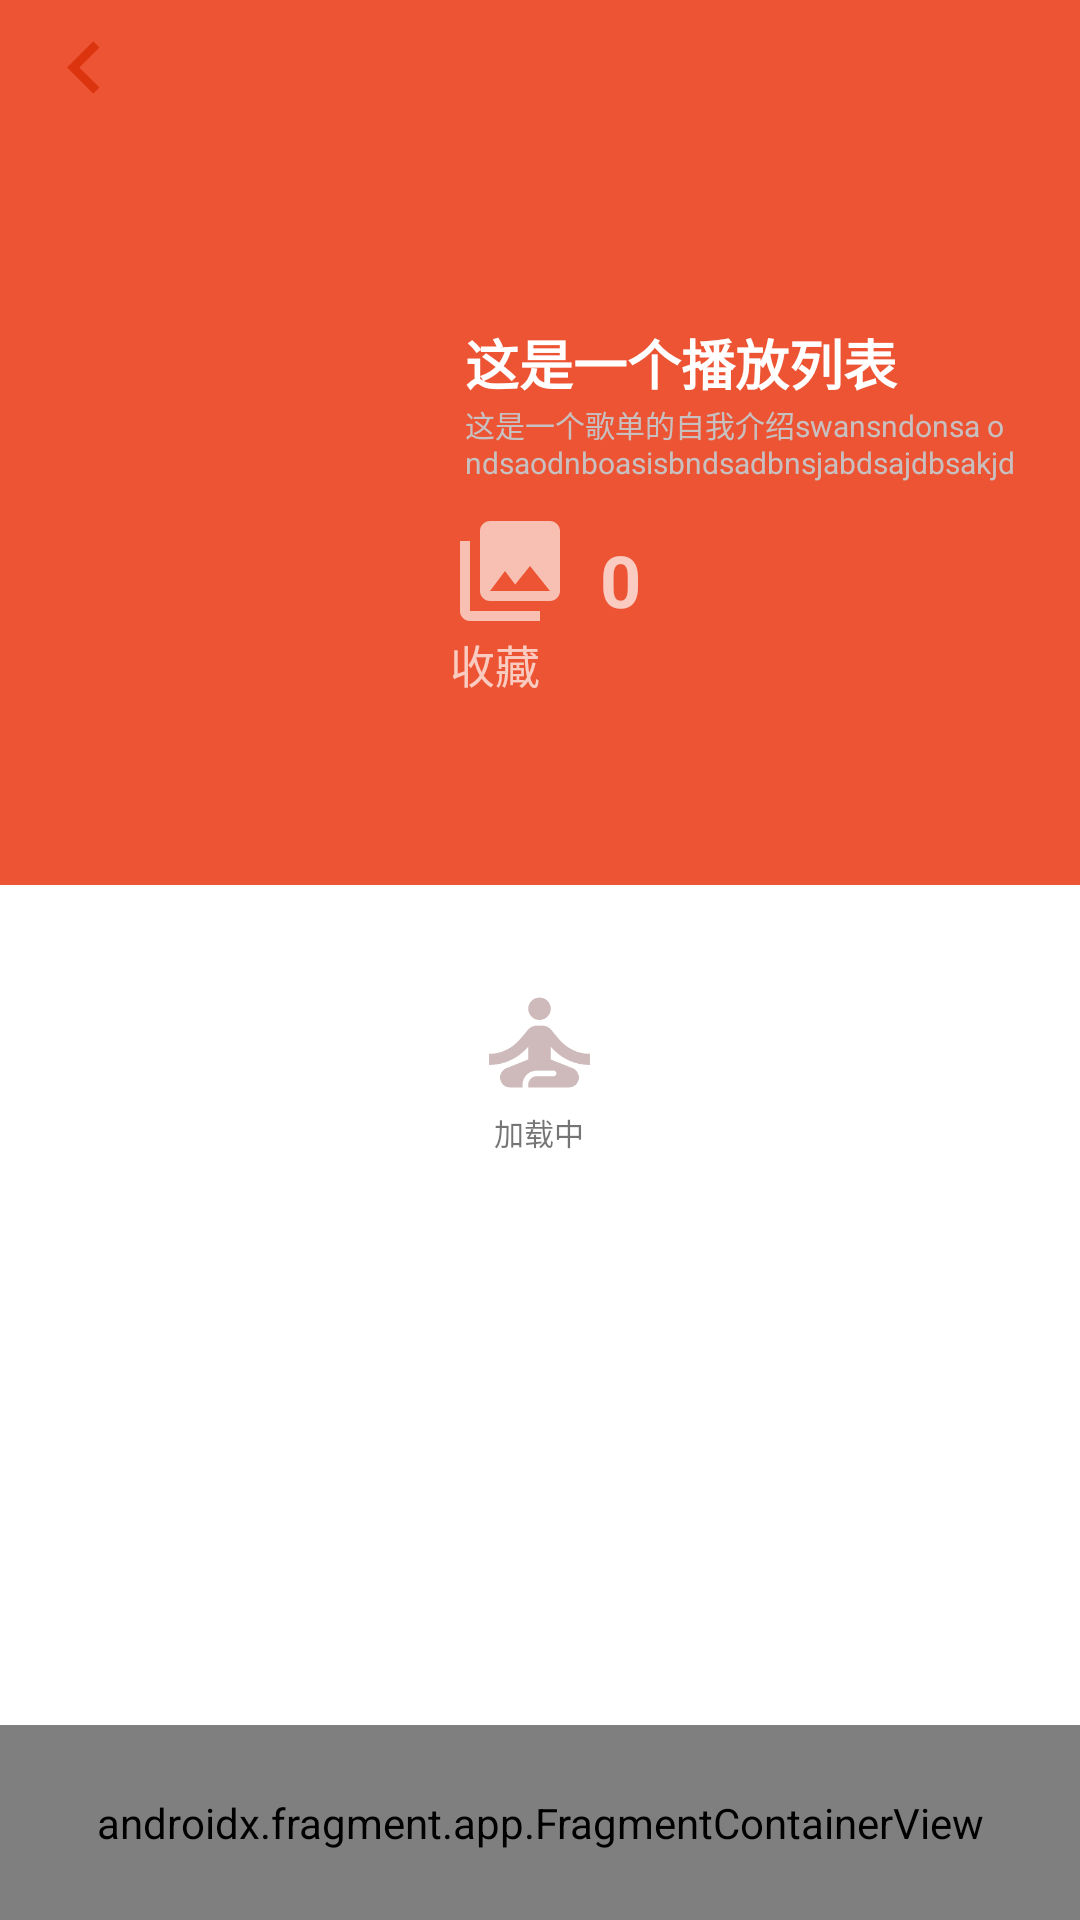

Named icons in this screenshot (1080*1920) and their bounding boxes, [x1,y1,x2,y2]:
self improvement: [489,997,590,1088]
